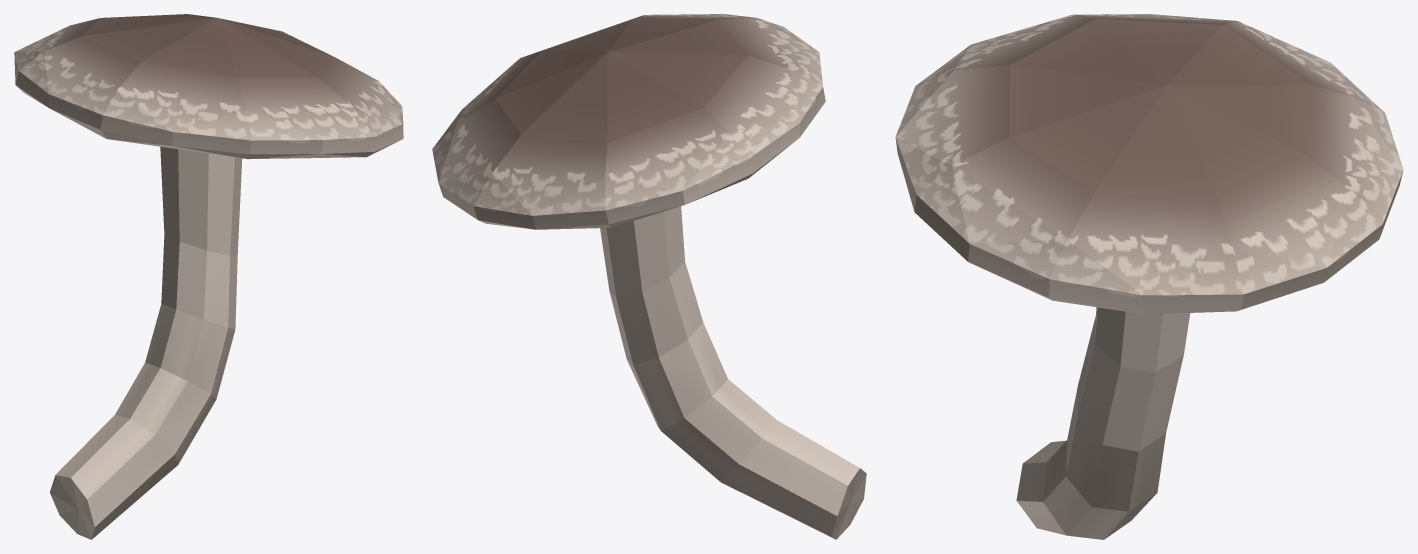
File: shiitakeSingle3.fbx
3 renders of one model, left to right at view 1: azimuth 30°, elevation 25°; view 2: azimuth 150°, elevation 25°; view 3: azimuth 270°, elevation 25°, orthographic. The views are drawn at different scales.
Parts seen in each view (by area): view 1: shiitakeSingle3; view 2: shiitakeSingle3; view 3: shiitakeSingle3.
Part boxes in pixels (<box>): shiitakeSingle3: <box>14,14,403,539</box>; shiitakeSingle3: <box>432,14,866,539</box>; shiitakeSingle3: <box>895,14,1403,539</box>.
Size of the model in its own units: 11.53 by 14.4 by 11.86.
